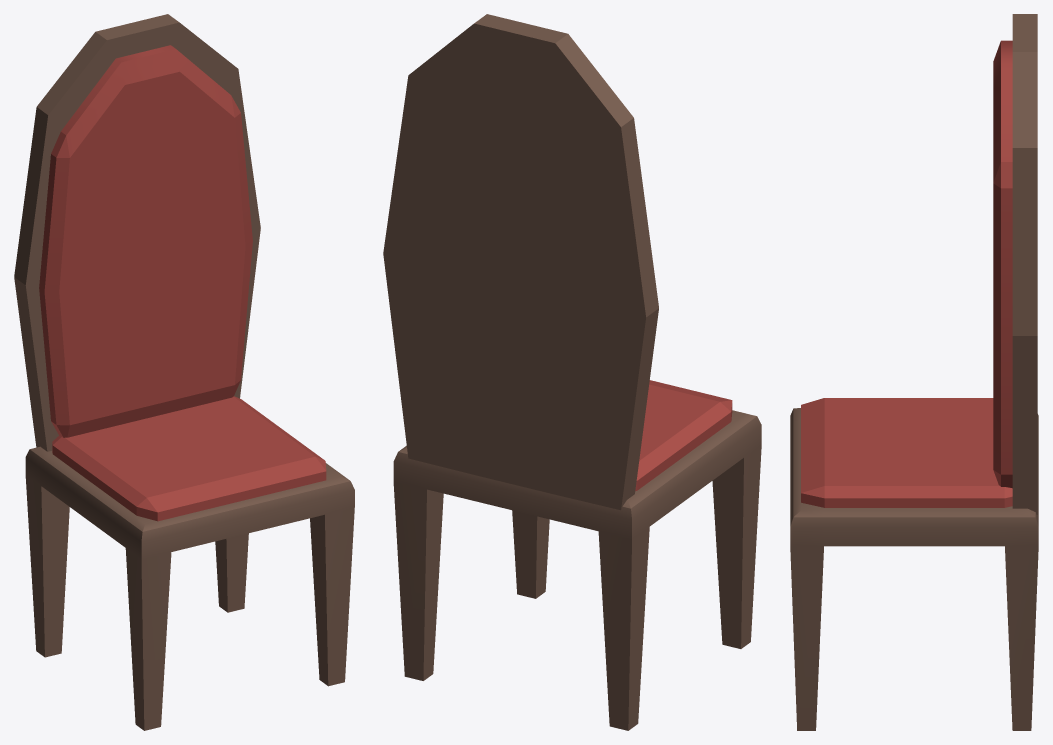
File: geo_LowDiningChair_01.fbx
The picture shows the model from 3 angles, left to right: view 1: azimuth 30°, elevation 25°; view 2: azimuth 150°, elevation 25°; view 3: azimuth 270°, elevation 25°; orthographic projection. The views are drawn at different scales.
Visible parts, largest first — view 1: geo_diningChairPillow_02, geo_diningChairSeat_02, geo_diningChairPillow_01, geo_diningChairBack_01; view 2: geo_diningChairBack_01, geo_diningChairSeat_02, geo_diningChairPillow_01; view 3: geo_diningChairPillow_01, geo_diningChairSeat_02, geo_diningChairBack_01, geo_diningChairPillow_02.
Boxes of the visible parts, x1=… form: geo_diningChairPillow_02: x1=39, y1=45, x2=252, y2=437; geo_diningChairSeat_02: x1=25, y1=446, x2=354, y2=730; geo_diningChairPillow_01: x1=52, y1=396, x2=326, y2=521; geo_diningChairBack_01: x1=14, y1=14, x2=260, y2=451; geo_diningChairBack_01: x1=383, y1=14, x2=658, y2=510; geo_diningChairSeat_02: x1=393, y1=410, x2=761, y2=730; geo_diningChairPillow_01: x1=635, y1=380, x2=732, y2=490; geo_diningChairPillow_01: x1=801, y1=398, x2=1012, y2=507; geo_diningChairSeat_02: x1=790, y1=408, x2=1038, y2=730; geo_diningChairBack_01: x1=1012, y1=14, x2=1037, y2=514; geo_diningChairPillow_02: x1=993, y1=40, x2=1012, y2=488.
Size of the model in its own units: 40.58 by 99.27 by 34.65.
